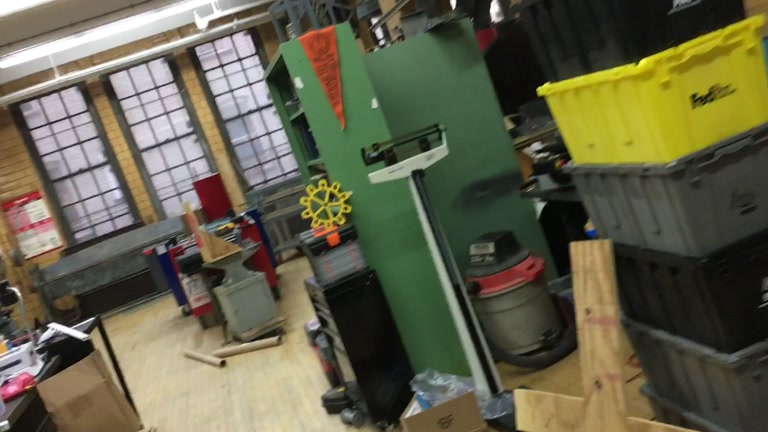gear: (301, 178, 350, 228)
